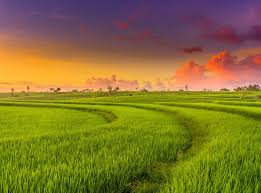field: (2, 93, 259, 190)
sky: (1, 1, 259, 91)
